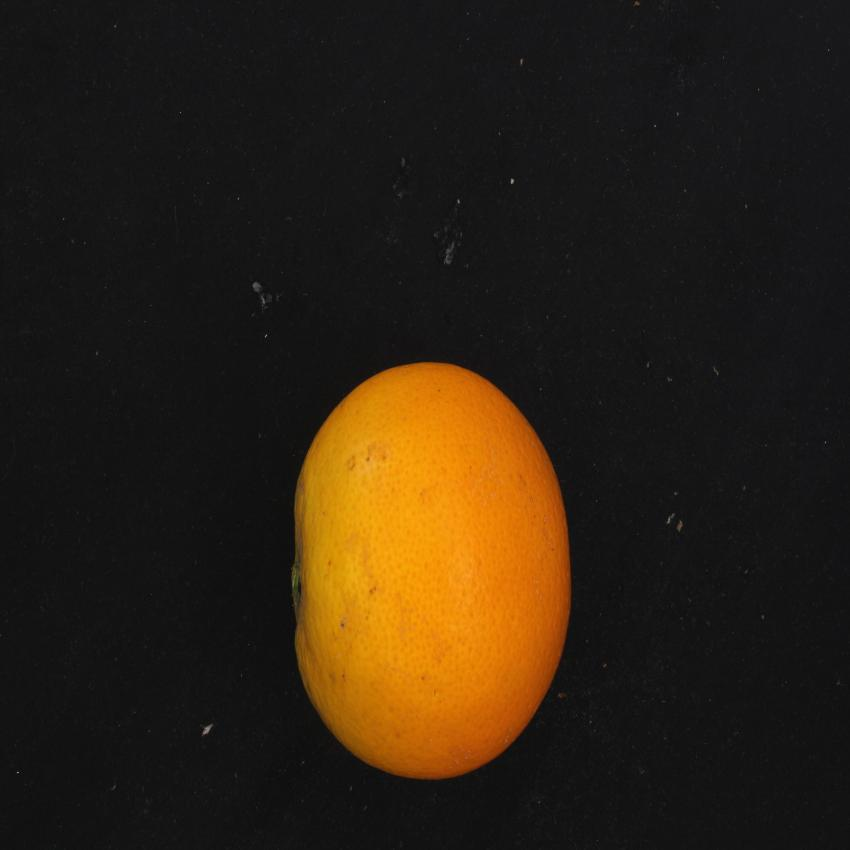Buen estado: (278, 344, 579, 792)
